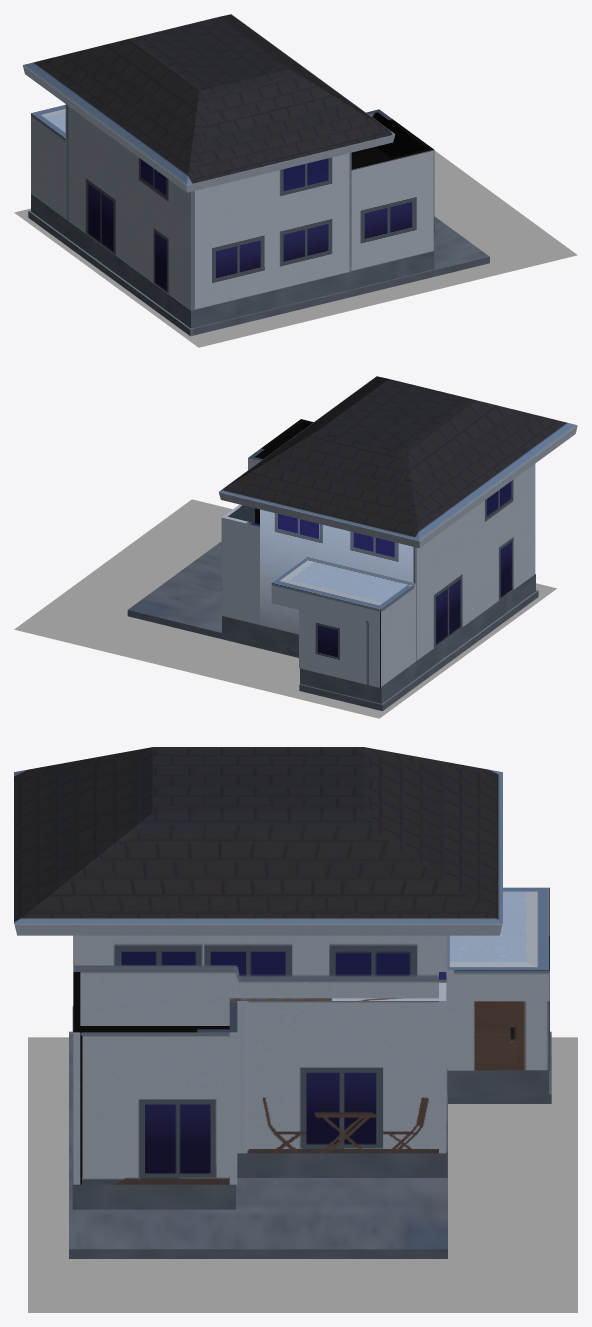
3 views of the same model, one above another, from view 1: azimuth 30°, elevation 25°; view 2: azimuth 150°, elevation 25°; view 3: azimuth 270°, elevation 25° (orthographic). The views are drawn at different scales.
Parts seen in each view (by area): view 1: polySurface794, polySurface786, polySurface824, polySurface787, polySurface640, polySurface792, polySurface788, polySurface591; view 2: polySurface794, polySurface786, polySurface824, polySurface788, polySurface792, polySurface640, polySurface787, polySurface591; view 3: polySurface794, polySurface824, polySurface787, polySurface786, polySurface792, polySurface788, polySurface640, polySurface591.
Part boxes in pixels (<box>): polySurface794: <box>23,14,394,185</box>; polySurface786: <box>65,104,351,310</box>; polySurface824: <box>14,150,577,347</box>; polySurface787: <box>340,109,434,273</box>; polySurface640: <box>31,193,434,328</box>; polySurface792: <box>28,210,489,336</box>; polySurface788: <box>31,105,67,219</box>; polySurface591: <box>23,66,394,192</box>; polySurface794: <box>219,376,577,540</box>; polySurface786: <box>260,464,535,660</box>; polySurface824: <box>14,499,556,718</box>; polySurface788: <box>271,558,415,687</box>; polySurface792: <box>127,541,538,710</box>; polySurface640: <box>222,574,535,703</box>; polySurface787: <box>221,419,313,624</box>; polySurface591: <box>219,426,577,548</box>; polySurface794: <box>14,747,502,923</box>; polySurface824: <box>28,1037,577,1312</box>; polySurface787: <box>73,972,446,1184</box>; polySurface786: <box>73,935,446,1122</box>; polySurface792: <box>69,1031,551,1258</box>; polySurface788: <box>446,887,549,1070</box>; polySurface640: <box>72,1006,548,1209</box>; polySurface591: <box>14,924,502,935</box>.
Bounding box in the file's own units: 19.1 × 9.95 × 15.83.
Materials: 7 (5 with a texture image).
